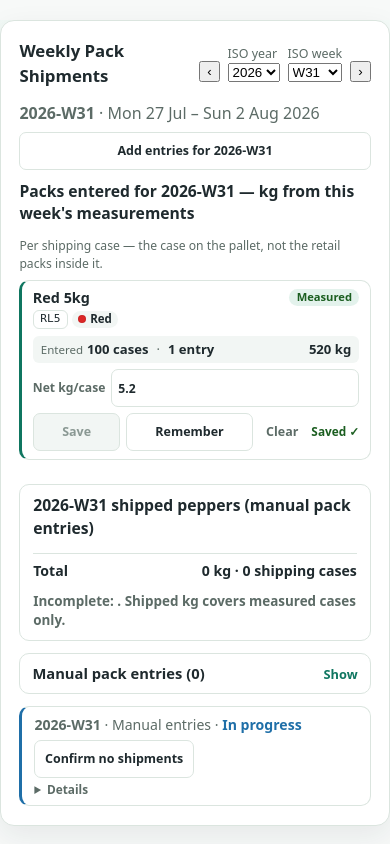
Test: pack measurement save states › a failed save keeps the inputs, shows the error inline and stays “Unsaved changes”
This screenshot has width=390, height=844.
Expected: the heading "Red 5kg" is shown, [33,288,90,307]
Replace the text in the number field named "Average net pepper kg per shipping case for Red 5kg" with "5.6" at {"x": 235, "y": 388}, box [111,369,359,407]
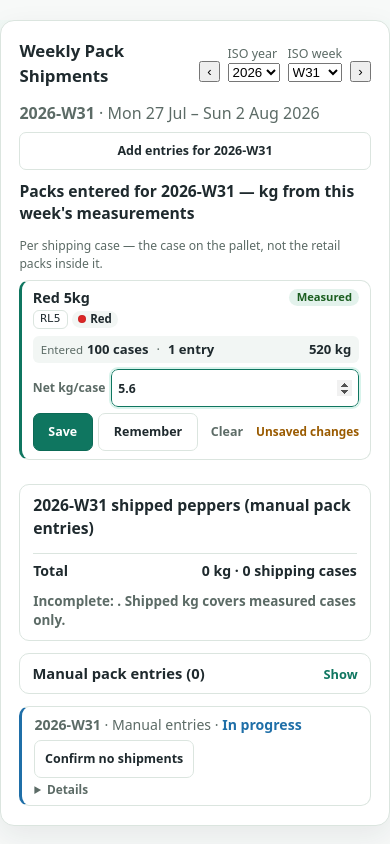
Click the button "Save" at {"x": 63, "y": 432}, box [33,413,93,451]
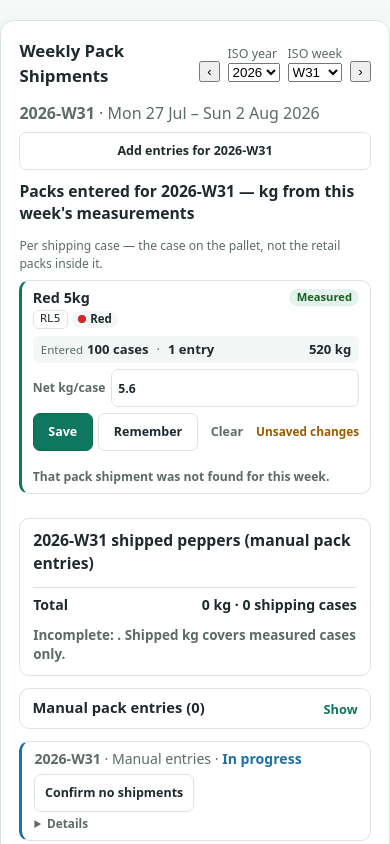
Now the message "Unsaved changes" is shown, box [256,423,359,440]
Now the button "Save" is enabled, box [33,413,93,451]
Now the message "That pack shipment was not found for this week." is shown, box [33,468,359,485]
# Editing again clears the error.
Type "1" into the number field named "Average net pepper kg per shipping case for Red 5kg" at {"x": 235, "y": 388}, box [111,369,359,407]
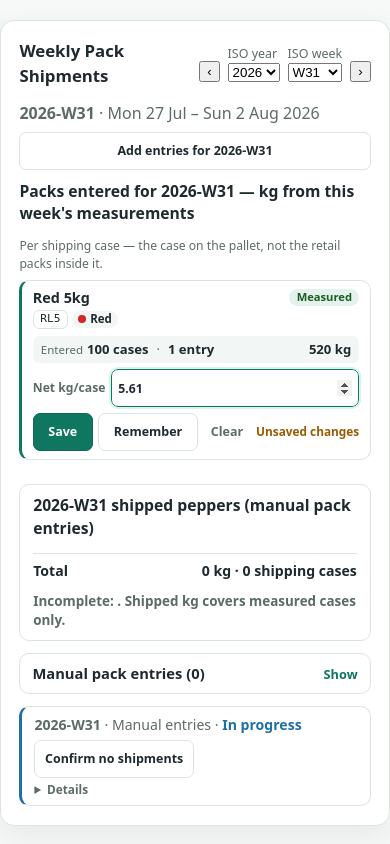
Now the message "That pack shipment was not found for this week." is gone
